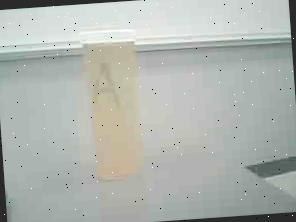Bottle A: (69, 18, 165, 192)
